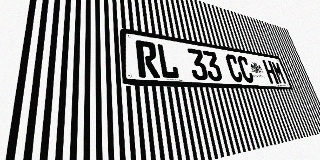3: (187, 48, 209, 81), (202, 50, 223, 81)
C: (224, 54, 244, 82), (236, 55, 255, 83)
H: (262, 59, 279, 84)
L: (156, 43, 180, 79)
M: (271, 61, 287, 84)
R: (135, 40, 160, 78)
